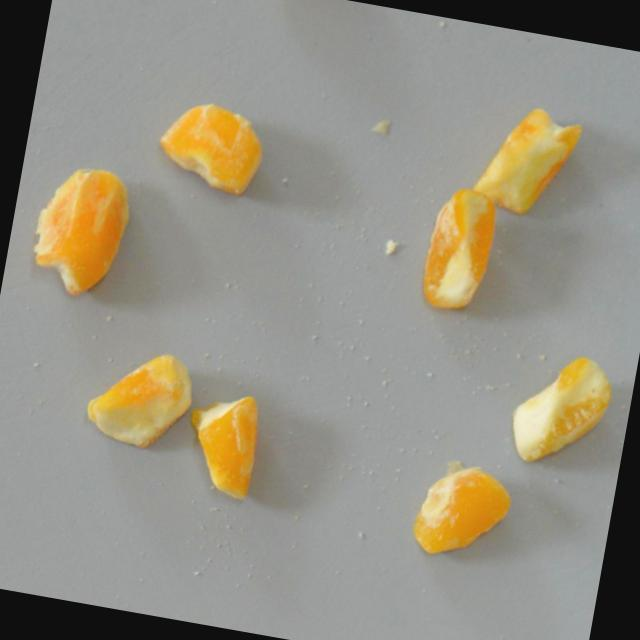dañado: (19, 150, 141, 307), (466, 91, 591, 224), (401, 443, 521, 575), (76, 335, 202, 459), (148, 91, 273, 201), (414, 180, 504, 322), (176, 376, 271, 506)
punto_negro: (502, 342, 620, 477)
